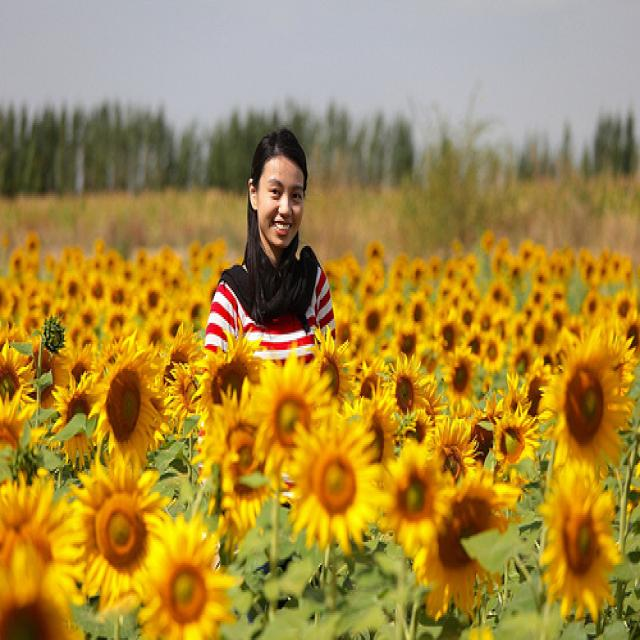sunflower: (414, 469, 513, 621), (538, 460, 626, 626), (290, 406, 381, 556), (71, 458, 161, 604), (545, 356, 635, 486), (144, 517, 230, 640), (91, 346, 168, 461), (209, 406, 275, 528), (55, 379, 106, 459), (312, 331, 356, 415), (384, 358, 429, 426), (442, 346, 481, 405), (495, 405, 529, 464), (530, 315, 550, 358)
